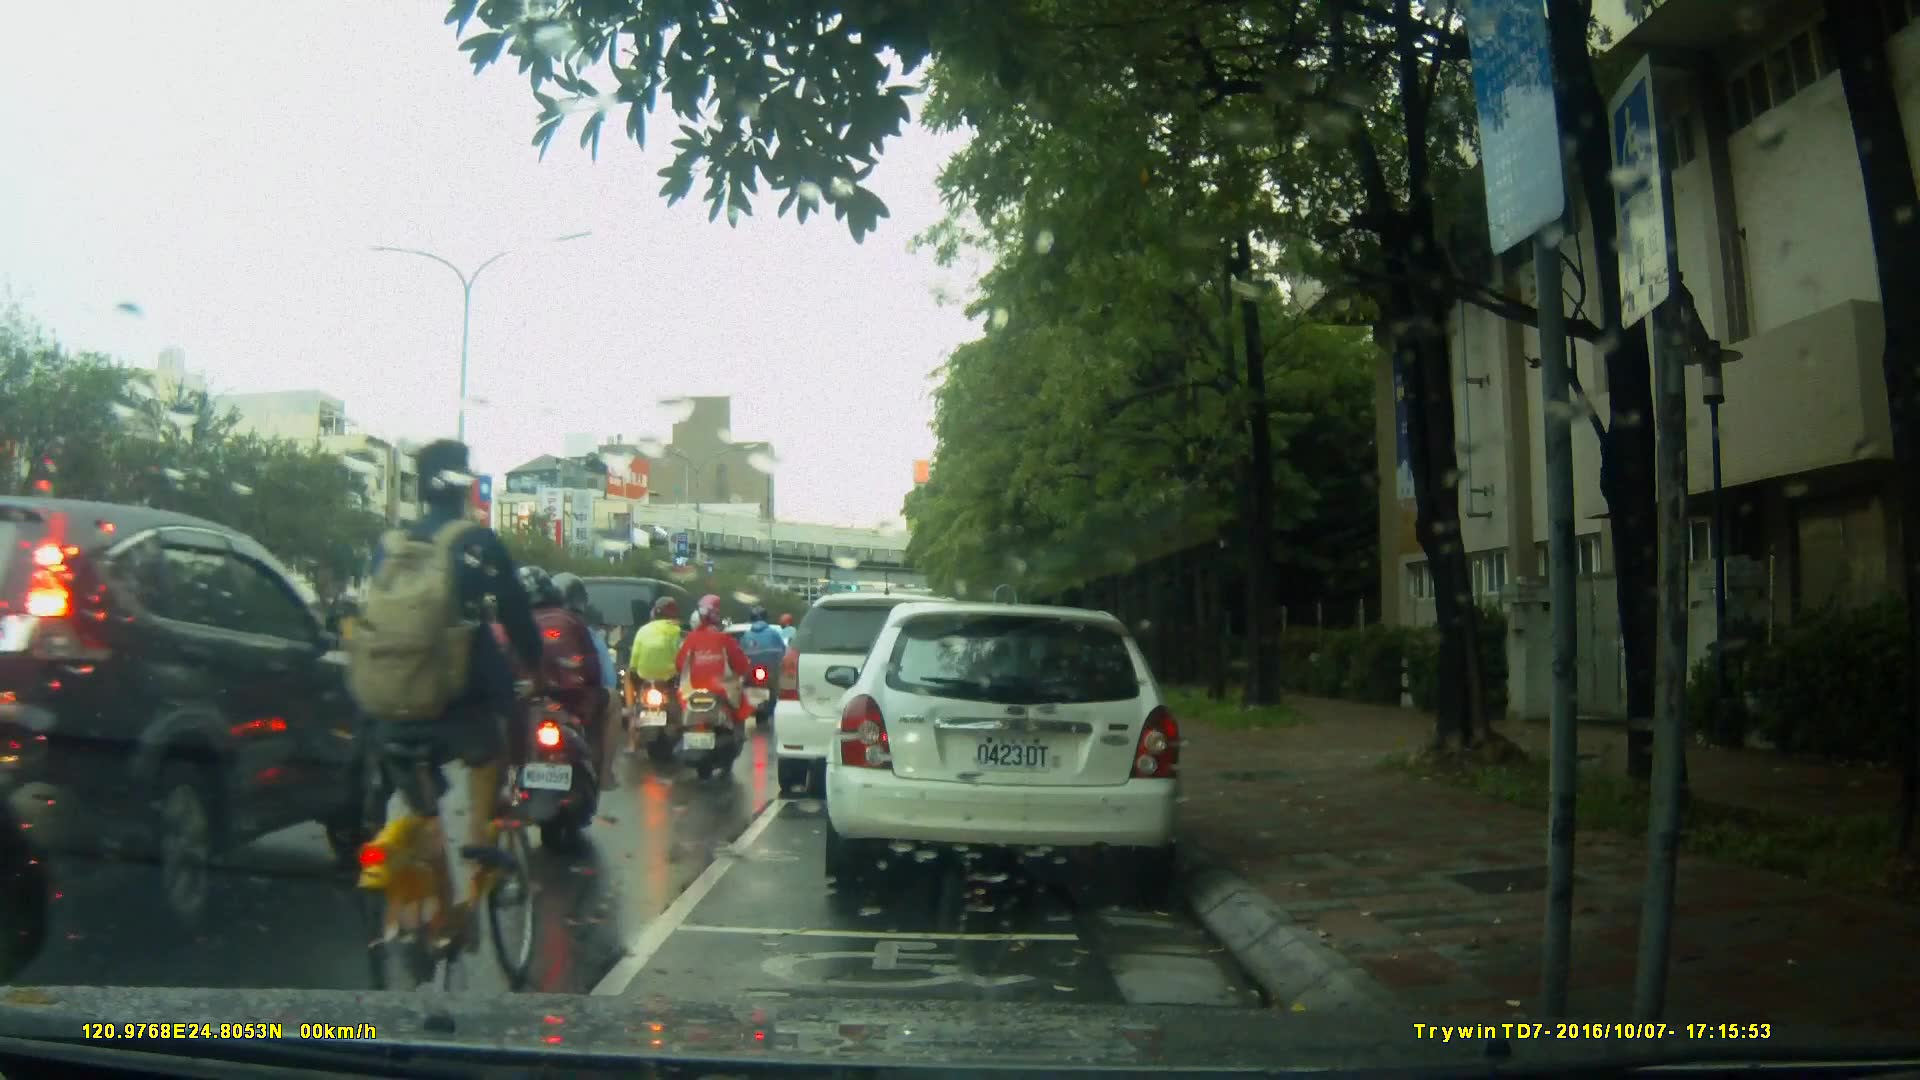rider: (345, 438, 562, 1021), (508, 569, 622, 850), (670, 595, 747, 782), (628, 600, 703, 762), (457, 599, 523, 734), (670, 602, 740, 731), (743, 599, 794, 728)
vehicle: (2, 499, 401, 950), (822, 604, 1188, 883), (774, 595, 995, 802), (298, 610, 511, 728)
